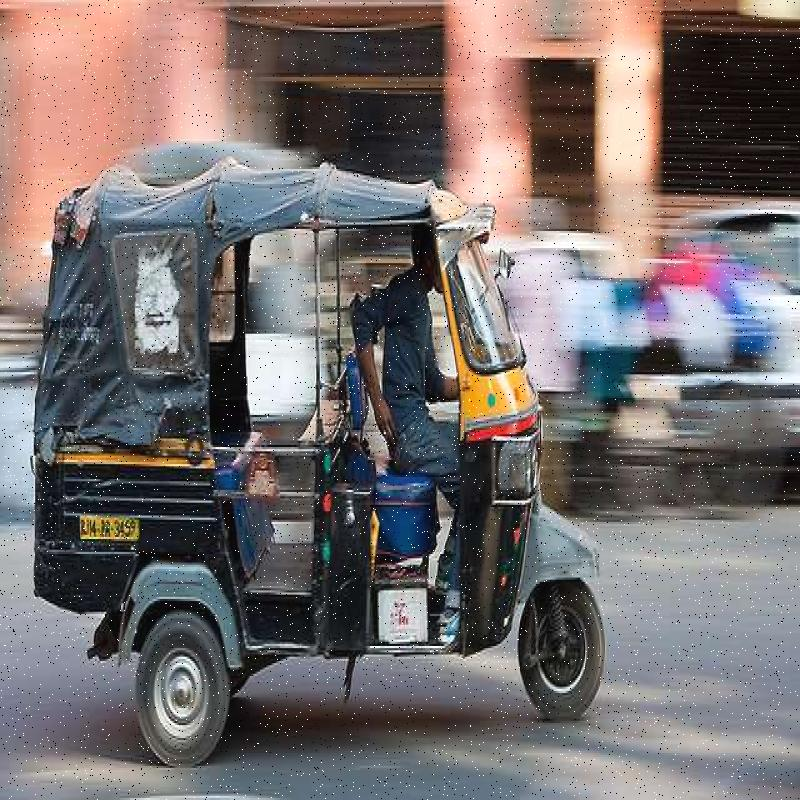auto: (39, 152, 594, 771)
